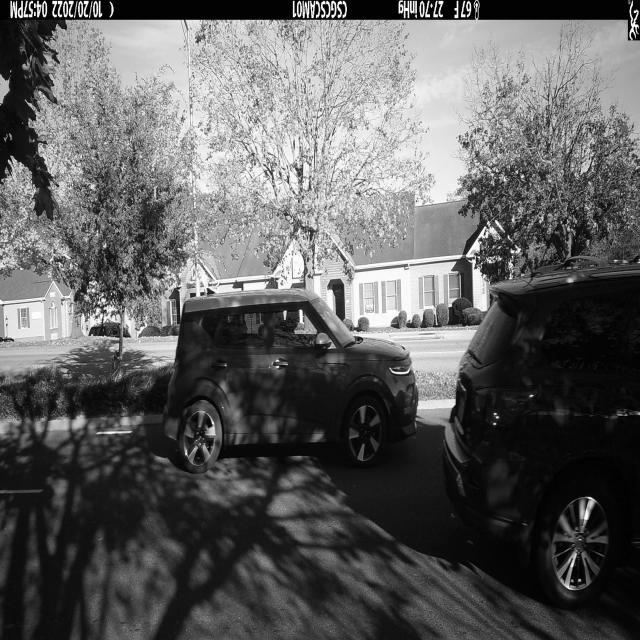SUV: (161, 289, 419, 474)
